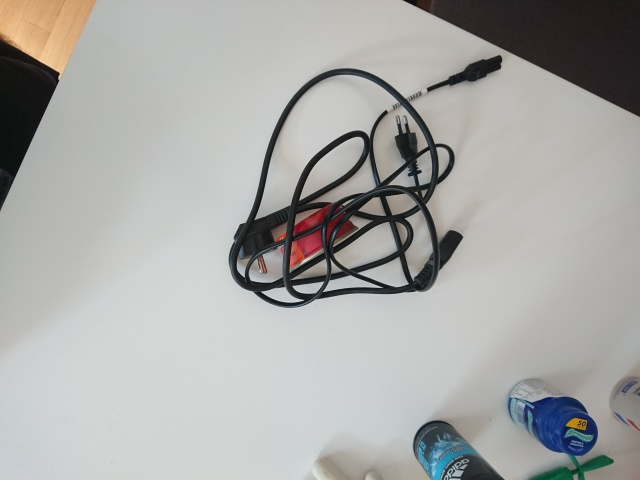Gavrilovic Pork Liver Pate 100g: (272, 200, 361, 271)
